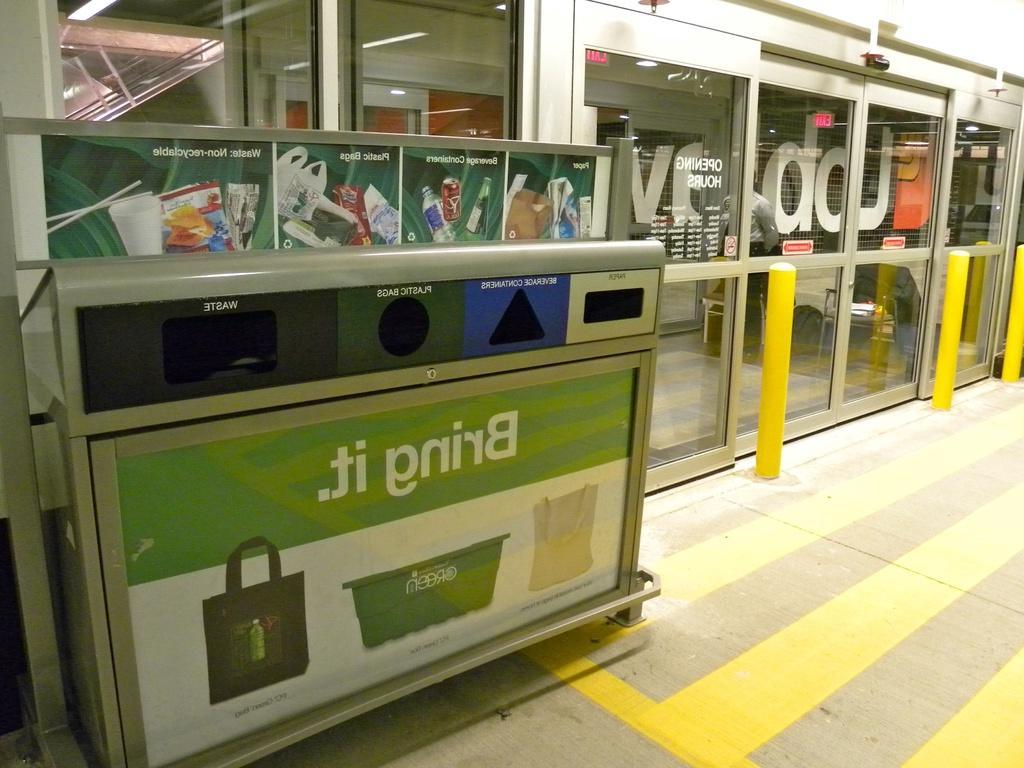door: (748, 91, 857, 416), (850, 109, 936, 387)
